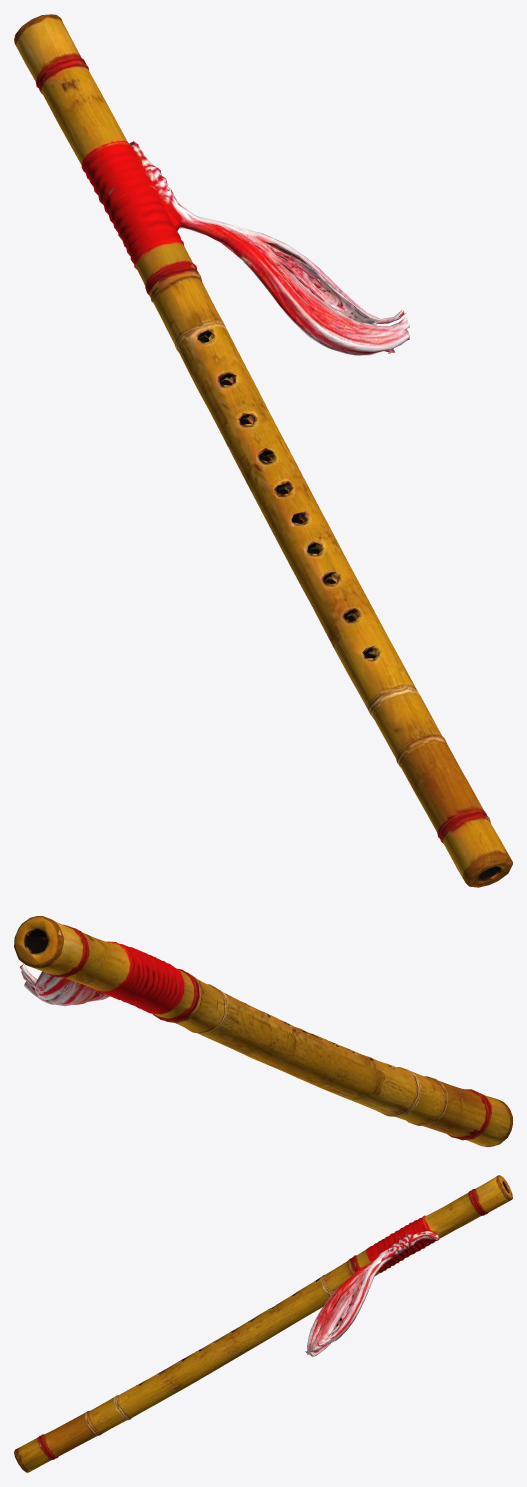
The model's file is dizi.glb.
3 views of the same model, one above another, from view 1: azimuth 30°, elevation 25°; view 2: azimuth 150°, elevation 25°; view 3: azimuth 270°, elevation 25° (orthographic). The views are drawn at different scales.
Parts seen in each view (by area): view 1: mesh; view 2: mesh; view 3: mesh.
Boxes of the visible parts, x1=… form: mesh: x1=14, y1=14, x2=512, y2=887; mesh: x1=14, y1=916, x2=512, y2=1146; mesh: x1=14, y1=1175, x2=512, y2=1472.
Bounding box in the file's own units: 0.2705 × 0.6515 × 1.
Materials: 1 (1 with a texture image).
